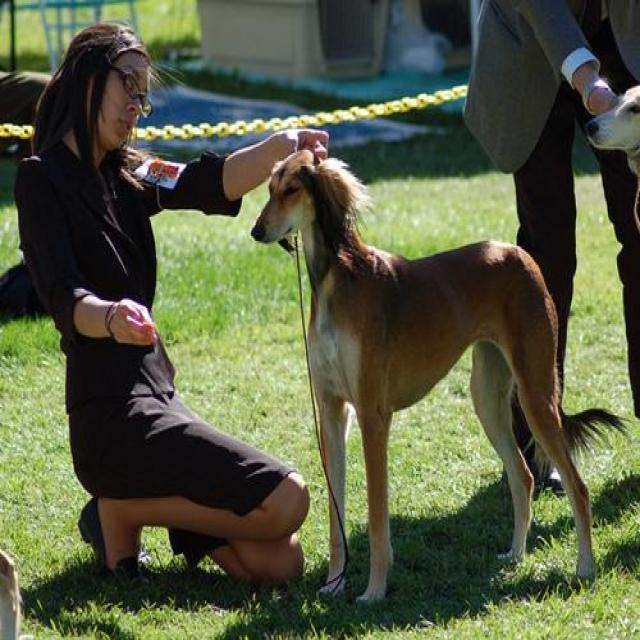saluki: (251, 152, 626, 602)
